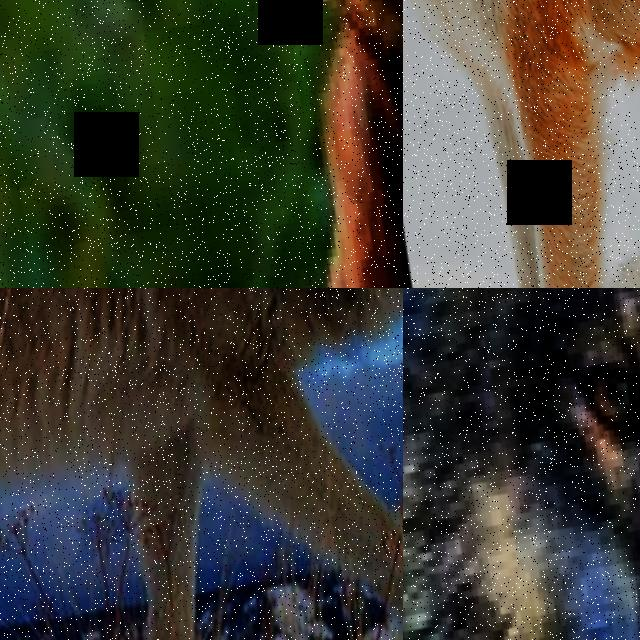dog: (124, 0, 403, 288)
wolf: (0, 288, 403, 640), (403, 288, 640, 640), (403, 0, 640, 288)
